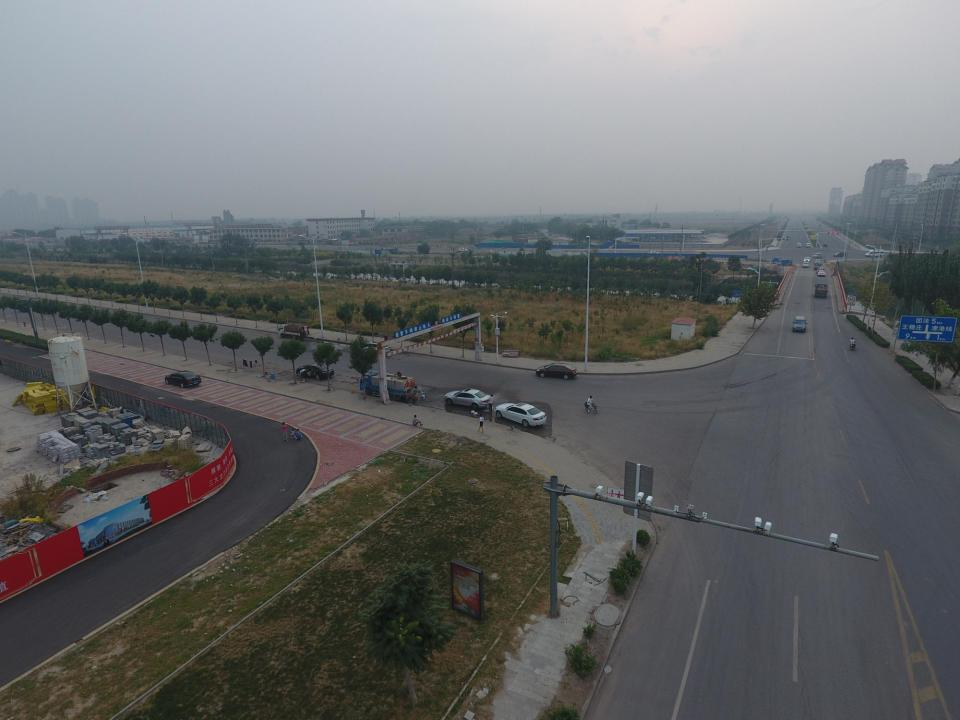car: (493, 399, 547, 428), (444, 388, 492, 411), (535, 363, 577, 379), (164, 370, 199, 387), (295, 364, 332, 380), (794, 314, 806, 332), (866, 249, 884, 256), (834, 251, 846, 257), (816, 270, 826, 276), (817, 266, 825, 272), (814, 252, 822, 258), (802, 261, 809, 267), (814, 262, 822, 267), (459, 247, 467, 252), (804, 256, 810, 262), (815, 258, 821, 263), (823, 243, 828, 248), (806, 242, 810, 247), (796, 243, 800, 248)
truck: (360, 370, 416, 401), (278, 323, 308, 337), (815, 284, 829, 296)
